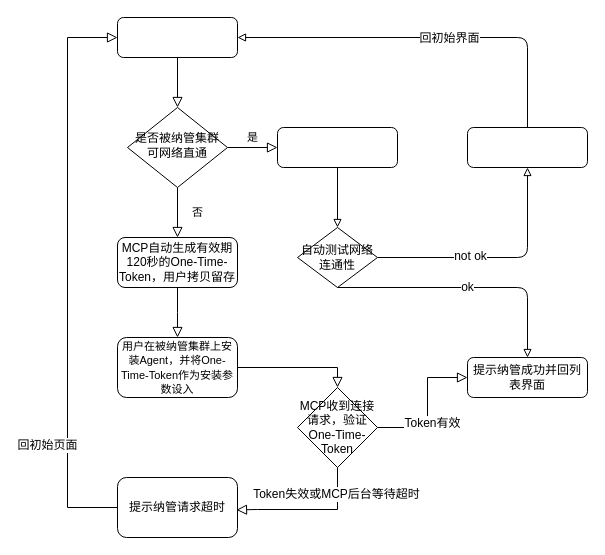
Some shapes in this 605 by 555 pixel diagram are drawn without their labels. The shapes that lost their labels are listed below. From the top down, each one's box as (x1, y1, x2, y2) in pixels, then its label:
(116, 16, 238, 58): 纳管集群
(276, 126, 398, 168): 贴入被纳管集群的Kubeconfig文件
(466, 126, 588, 168): 提示连接错误
